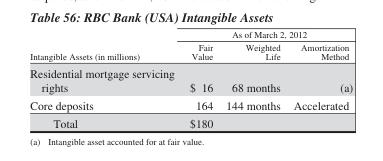table: (29, 28, 352, 129)
table column: (29, 28, 181, 129), (218, 28, 286, 129), (286, 28, 352, 129), (181, 28, 218, 129)
table column header: (29, 28, 352, 114)
table row: (29, 40, 352, 114), (29, 114, 352, 129), (29, 28, 352, 40)
table spanning cell: (29, 28, 181, 114), (181, 28, 352, 40)
